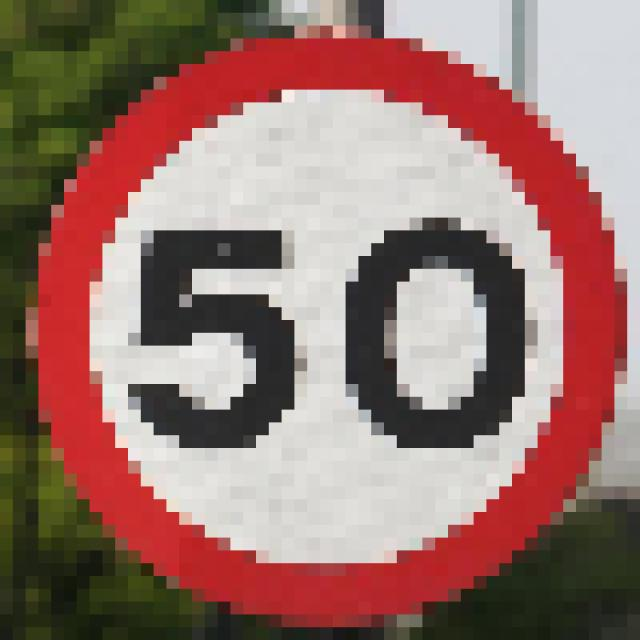Limite-50: (29, 31, 631, 630)
